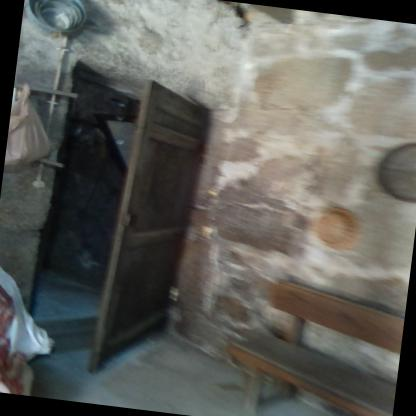semi: (19, 52, 229, 387)
